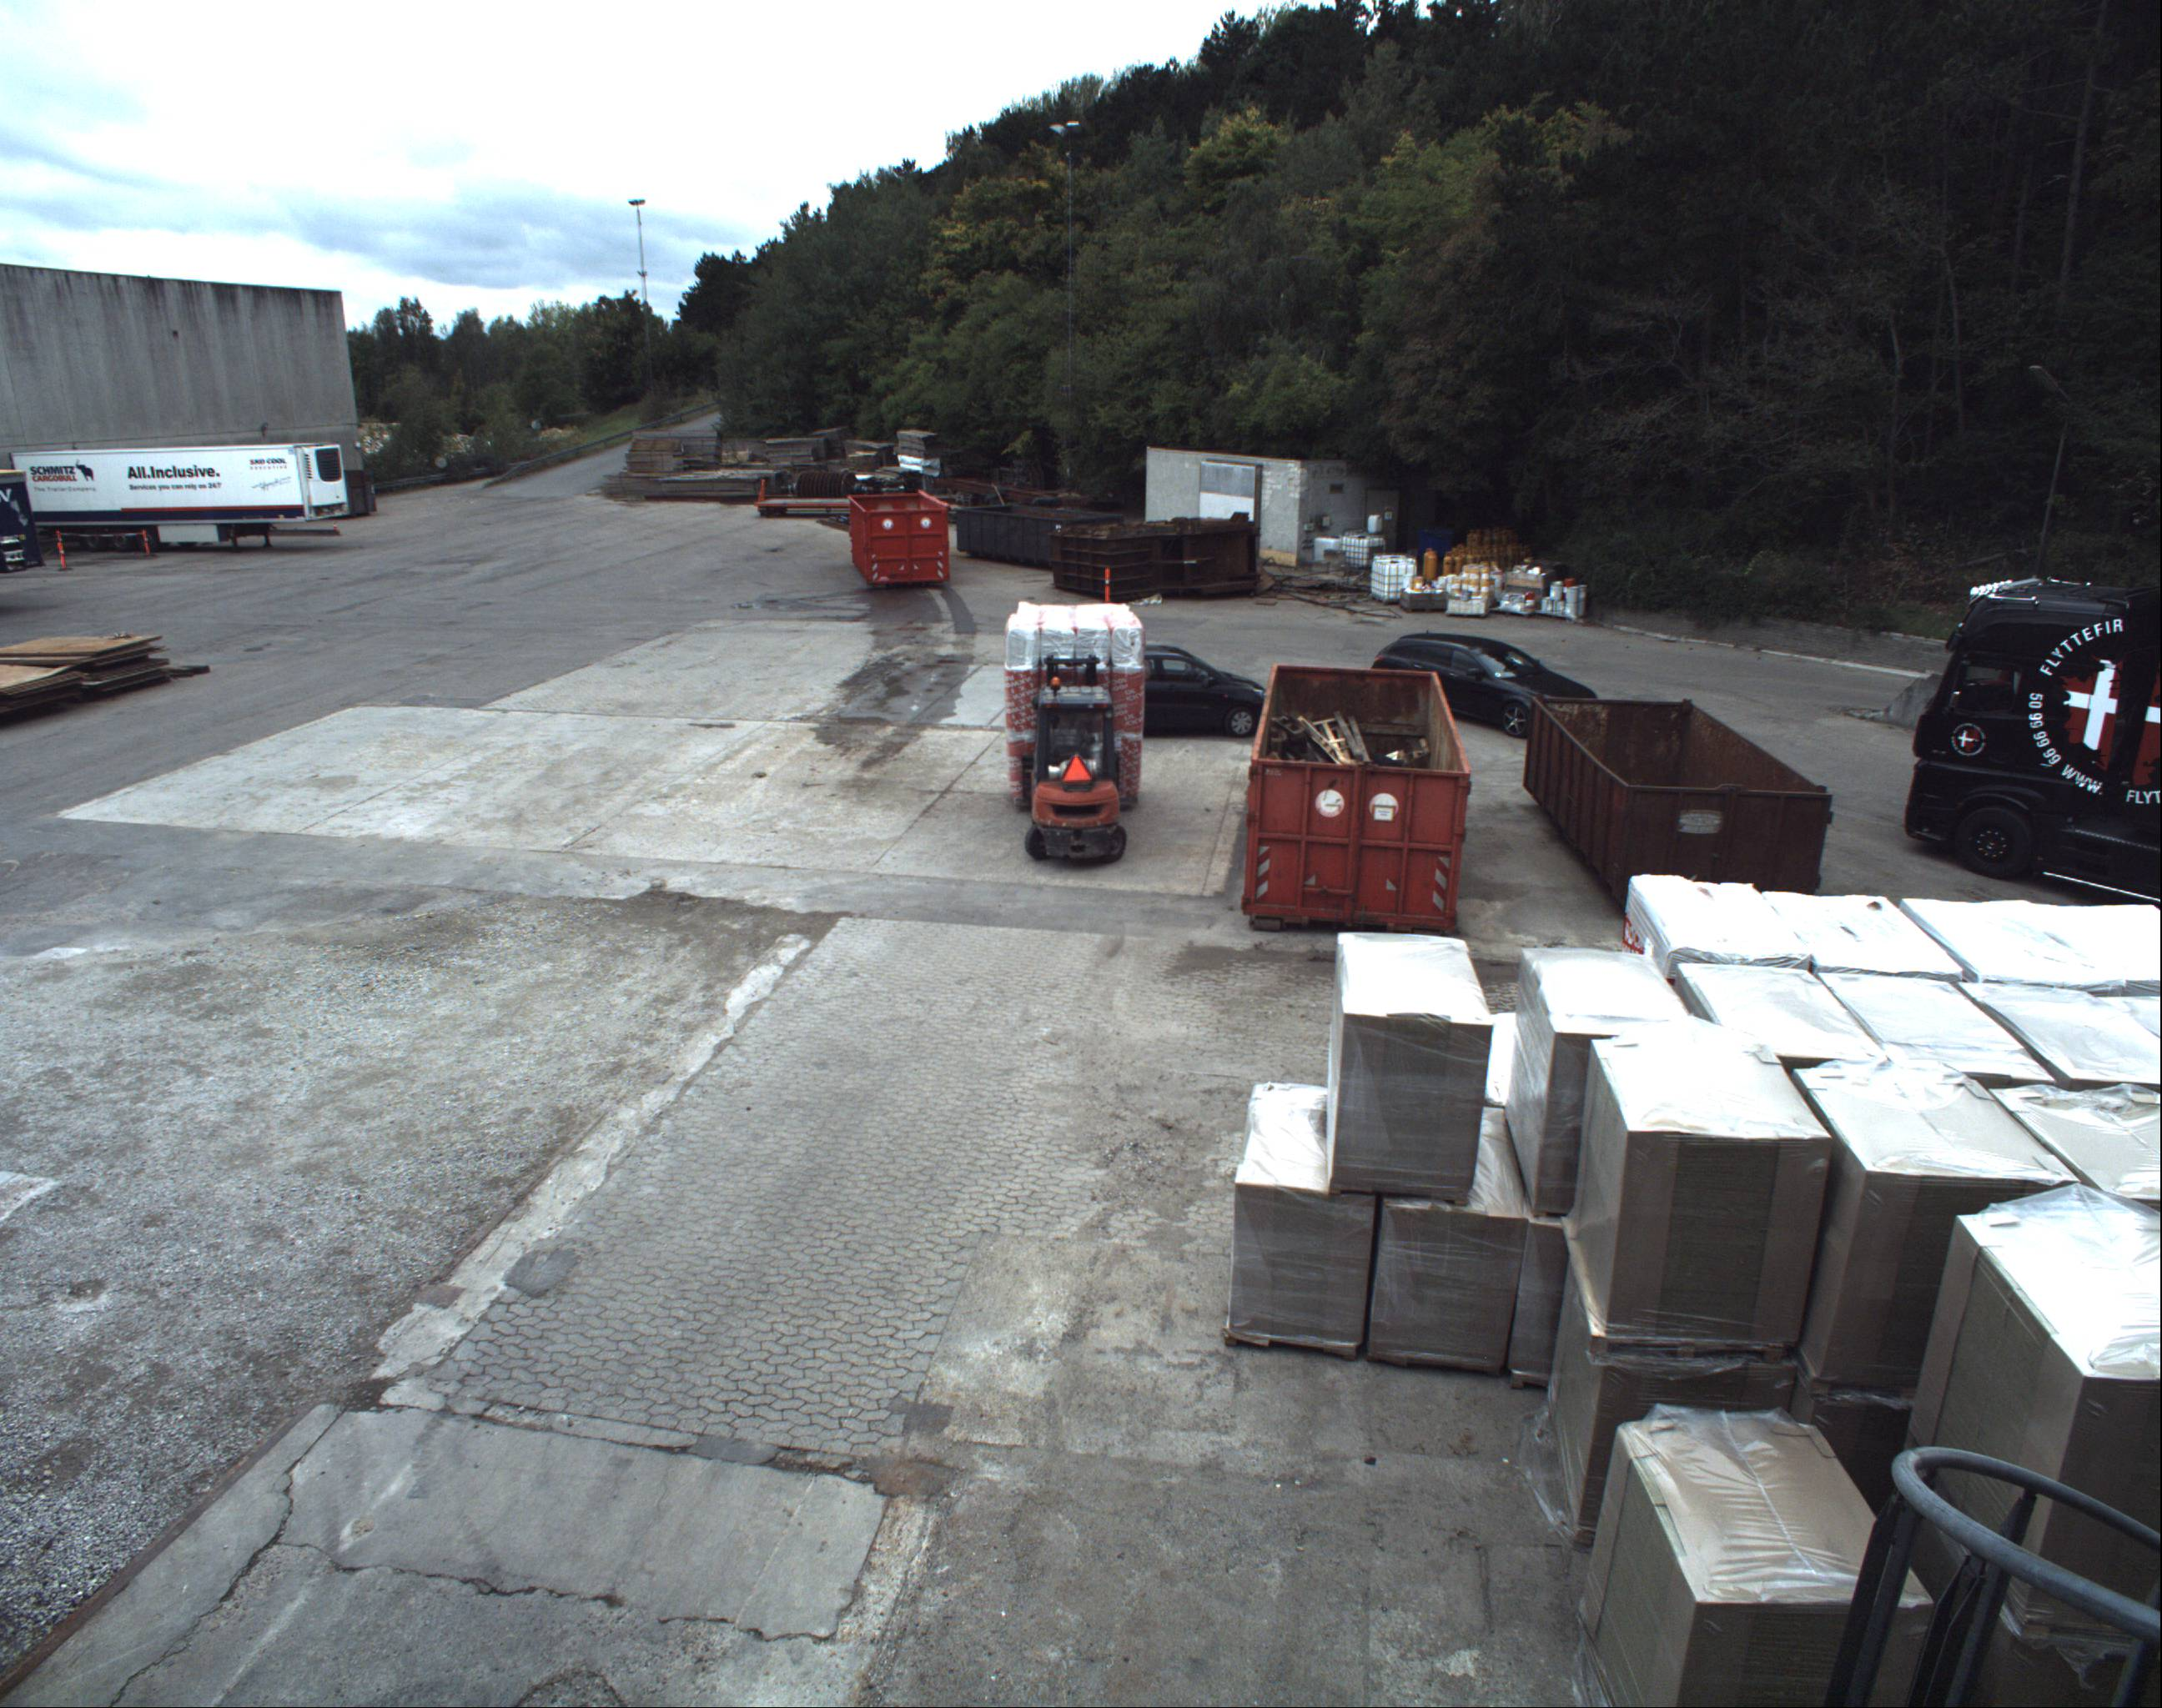rockwool_batts: (995, 578, 1141, 815)
